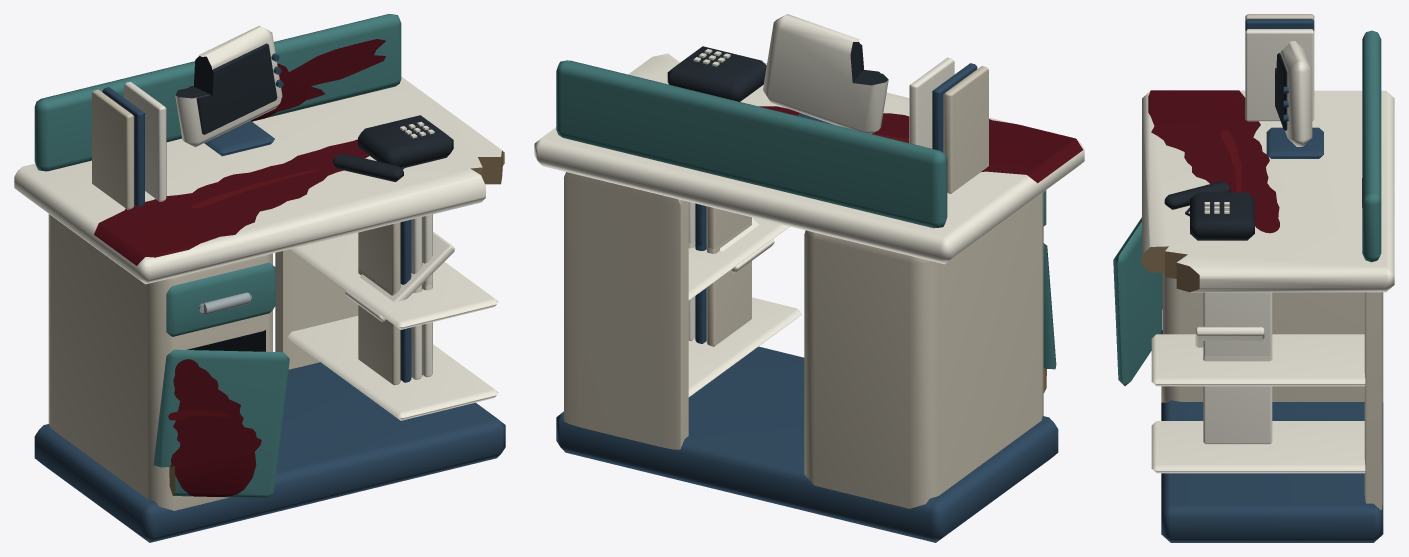
The model's file is team_desk.glb.
3 views of the same model, side by side, from view 1: azimuth 30°, elevation 25°; view 2: azimuth 150°, elevation 25°; view 3: azimuth 270°, elevation 25° (orthographic). The views are drawn at different scales.
Visible parts, largest first — view 1: Outbreak_TeamDesk_standard_Static; view 2: Outbreak_TeamDesk_standard_Static; view 3: Outbreak_TeamDesk_standard_Static.
Boxes of the visible parts, x1=… form: Outbreak_TeamDesk_standard_Static: x1=14, y1=14, x2=505, y2=542; Outbreak_TeamDesk_standard_Static: x1=534, y1=14, x2=1084, y2=542; Outbreak_TeamDesk_standard_Static: x1=1113, y1=14, x2=1394, y2=542.
Bounding box in the file's own units: 1.13 × 1.16 × 0.7354.
